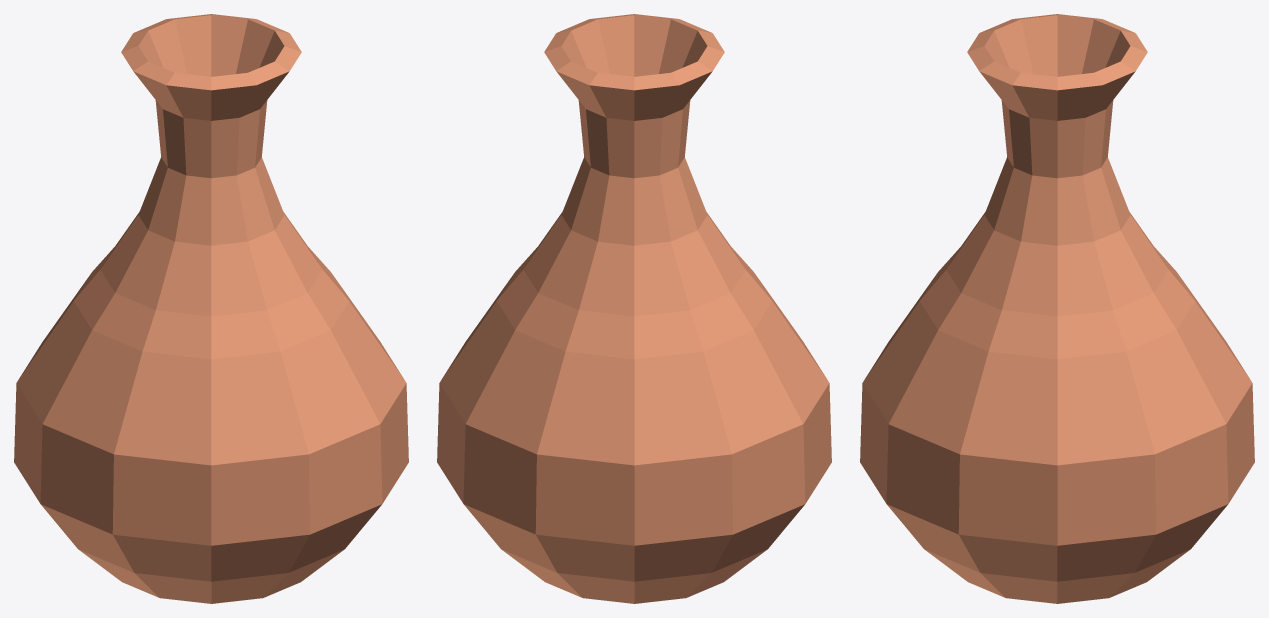
Rendered from waza_2.fbx.
3 views of the same model, side by side, from view 1: azimuth 30°, elevation 25°; view 2: azimuth 150°, elevation 25°; view 3: azimuth 270°, elevation 25° (orthographic).
Parts seen in each view (by area): view 1: Cylinder.001; view 2: Cylinder.001; view 3: Cylinder.001.
Boxes of the visible parts, x1,y1,x2,y2 form: Cylinder.001: (14, 14, 408, 603); Cylinder.001: (437, 14, 831, 603); Cylinder.001: (860, 14, 1254, 603).
Bounding box in the file's own units: 382 × 549 × 382.
